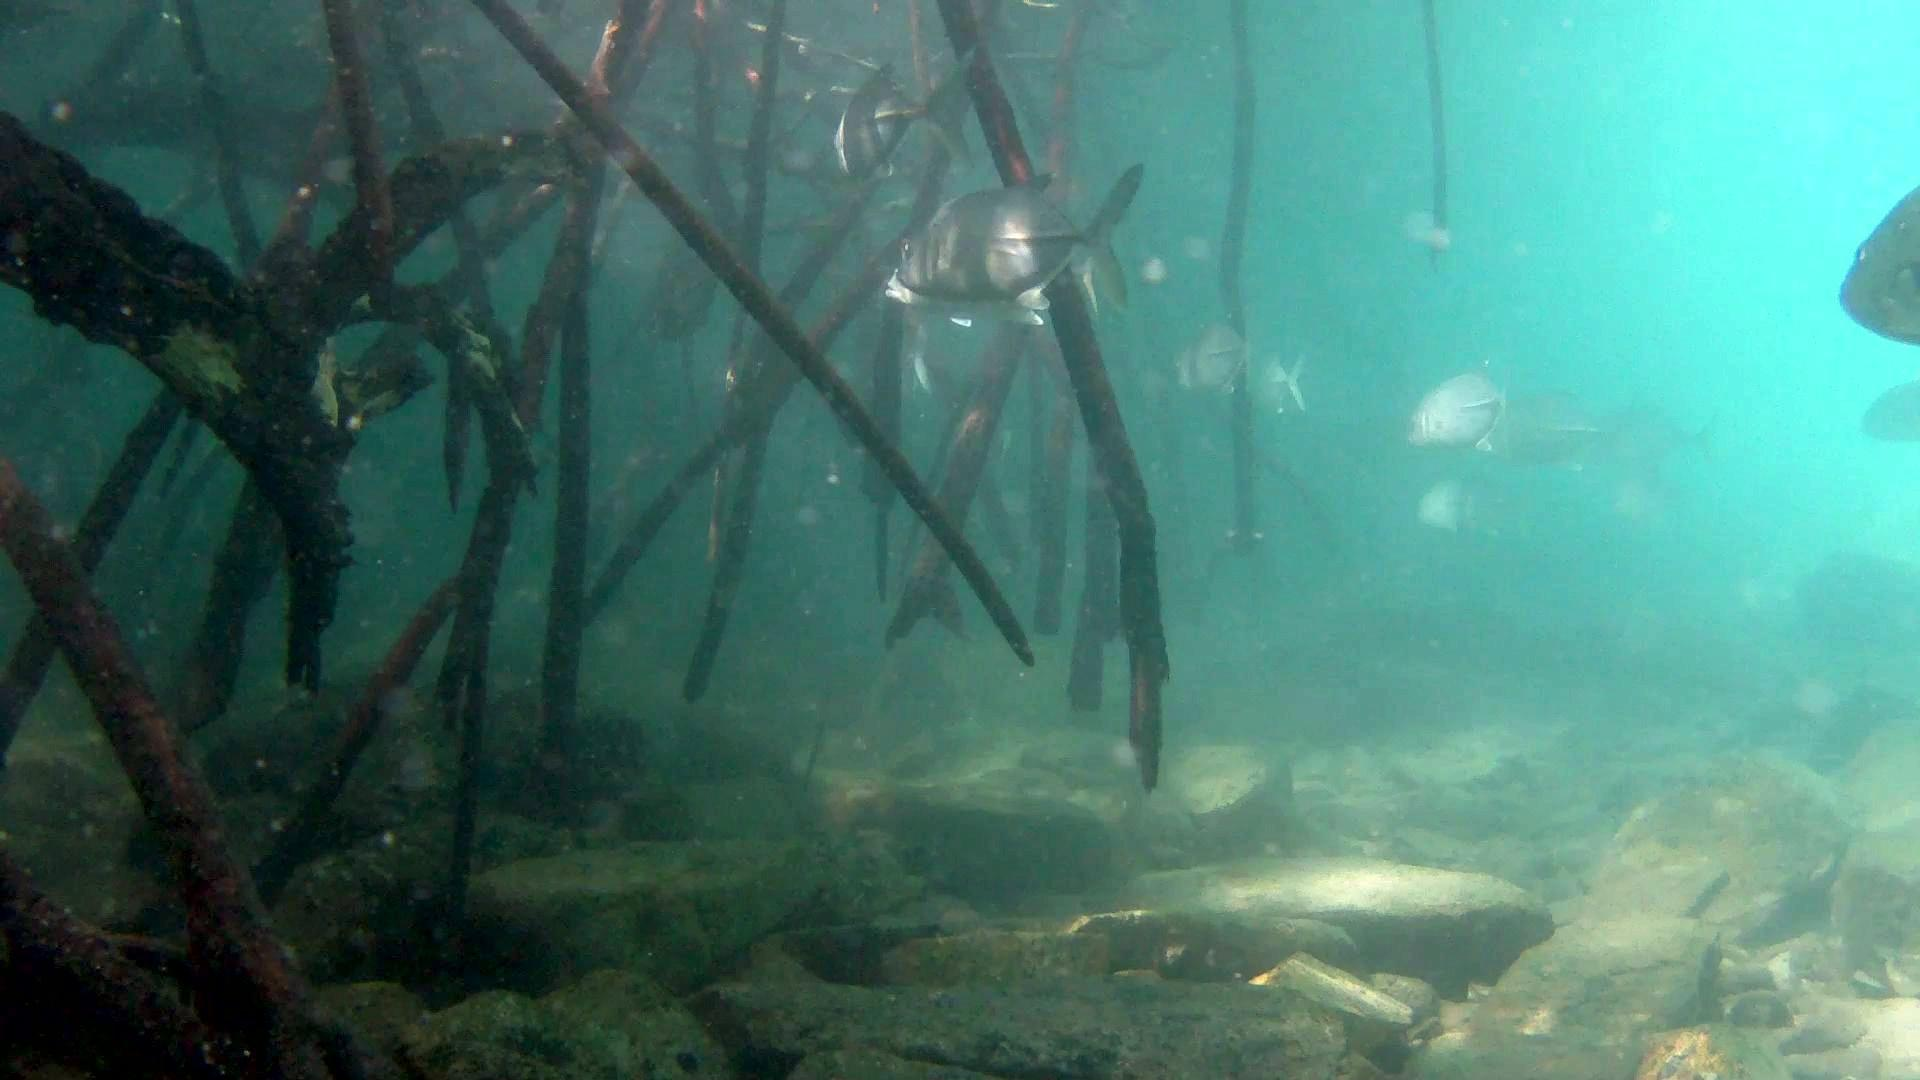caranx: (890, 158, 1158, 319)
